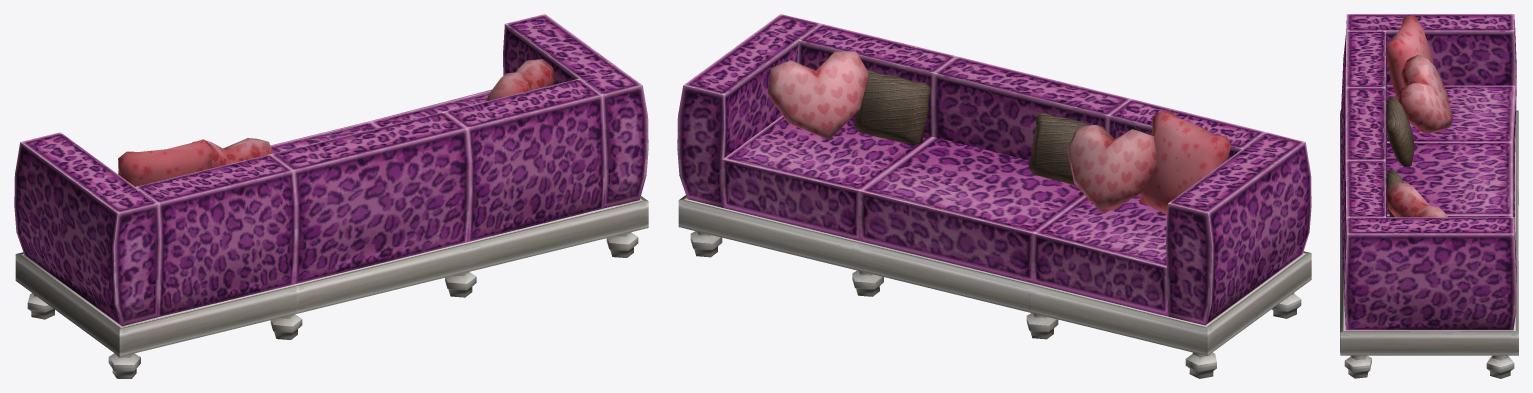
File: furni_0200098_02.FBX
The picture shows the model from 3 angles, left to right: view 1: azimuth 30°, elevation 25°; view 2: azimuth 150°, elevation 25°; view 3: azimuth 270°, elevation 25°; orthographic projection. The views are drawn at different scales.
Parts seen in each view (by area): view 1: furni_0200098_02; view 2: furni_0200098_02; view 3: furni_0200098_02.
Boxes of the visible parts, x1,y1,x2,y2 form: furni_0200098_02: [14, 14, 648, 378]; furni_0200098_02: [677, 14, 1311, 378]; furni_0200098_02: [1340, 14, 1518, 378].
Size of the model in its own units: 237 by 82.48 by 80.07.
Materials: 1 (1 with a texture image).
